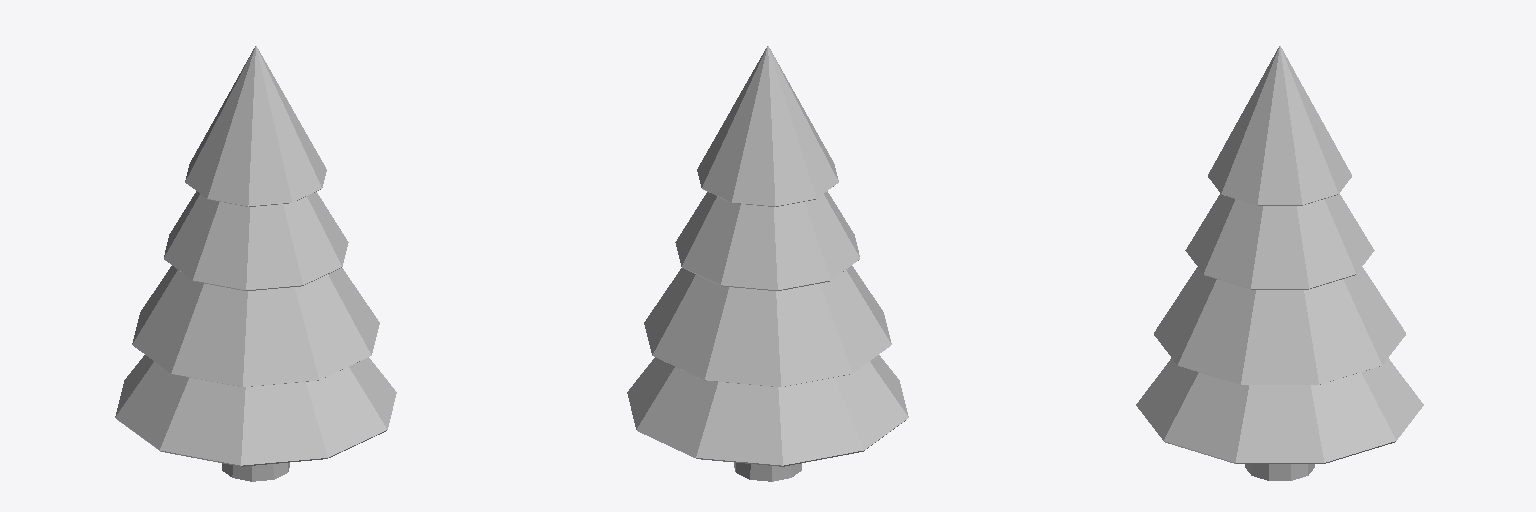
The model's file is ForestTreePineTall.obj.
3 views of the same model, side by side, from view 1: azimuth 30°, elevation 25°; view 2: azimuth 150°, elevation 25°; view 3: azimuth 270°, elevation 25° (orthographic).
Visible parts, largest first — view 1: ForestTreePineTall; view 2: ForestTreePineTall; view 3: ForestTreePineTall.
Boxes of the visible parts, box(x1,y1,x2,y2) form: ForestTreePineTall: box(115, 46, 396, 481); ForestTreePineTall: box(627, 46, 908, 481); ForestTreePineTall: box(1136, 46, 1423, 480).
Size of the model in its own units: 177 by 300 by 186.